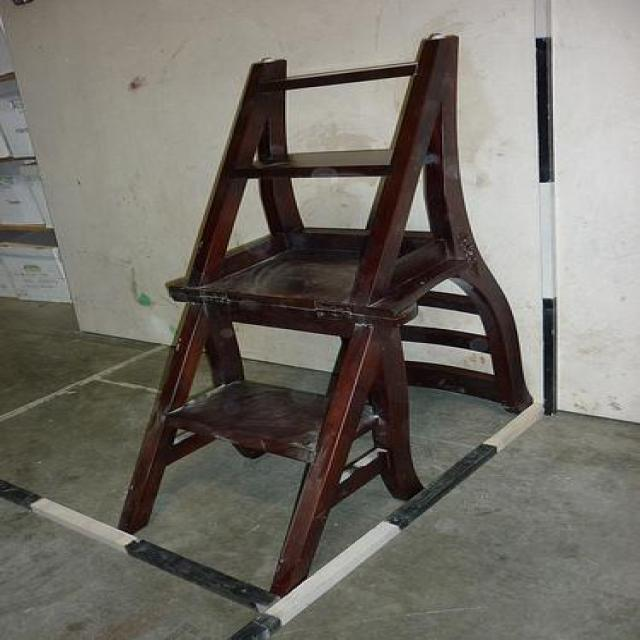chair: (115, 31, 534, 599)
